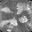people: (8, 18, 19, 28), (2, 7, 14, 14), (16, 3, 23, 14), (18, 16, 28, 23), (0, 19, 8, 27)
